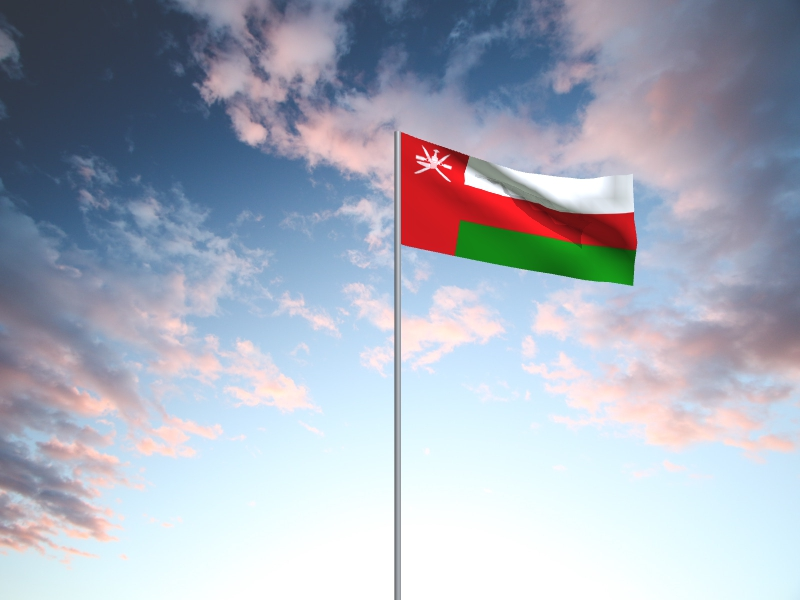om: (402, 133, 638, 287)
